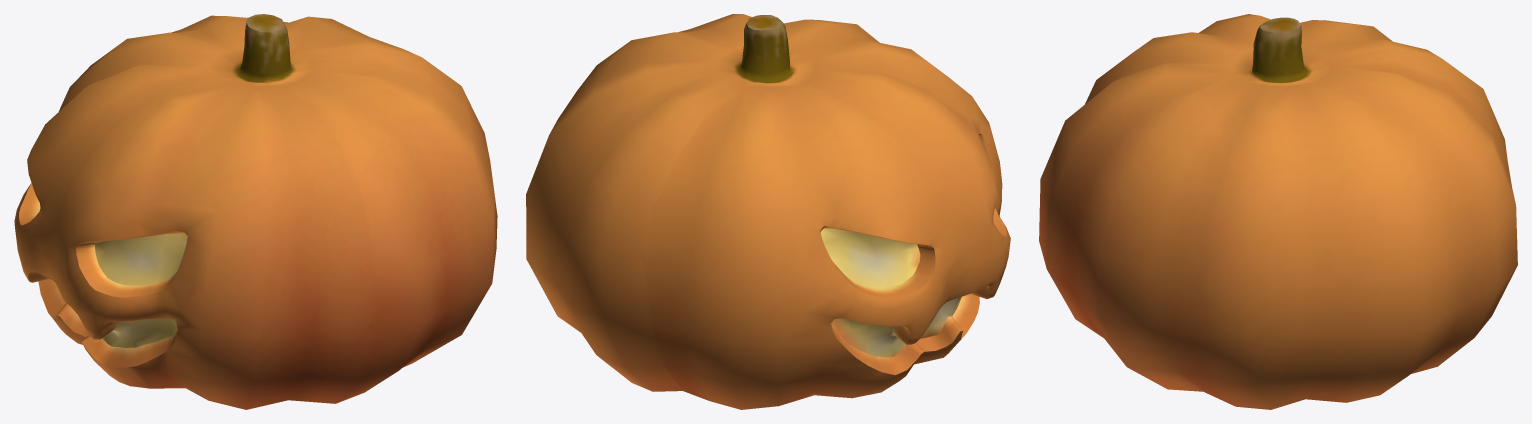
File: pref_beach_WSJ_decorate_pumpkin03_lv3.fbx
3 renders of one model, left to right at view 1: azimuth 30°, elevation 25°; view 2: azimuth 150°, elevation 25°; view 3: azimuth 270°, elevation 25°, orthographic.
Parts seen in each view (by area): view 1: pref_beach_WSJ_decorate_pumpkin03_lv3; view 2: pref_beach_WSJ_decorate_pumpkin03_lv3; view 3: pref_beach_WSJ_decorate_pumpkin03_lv3.
Boxes of the visible parts, x1=… form: pref_beach_WSJ_decorate_pumpkin03_lv3: x1=14, y1=14, x2=497, y2=409; pref_beach_WSJ_decorate_pumpkin03_lv3: x1=526, y1=14, x2=1010, y2=409; pref_beach_WSJ_decorate_pumpkin03_lv3: x1=1039, y1=14, x2=1517, y2=409.
Size of the model in its own units: 1.96 by 1.45 by 1.93.
